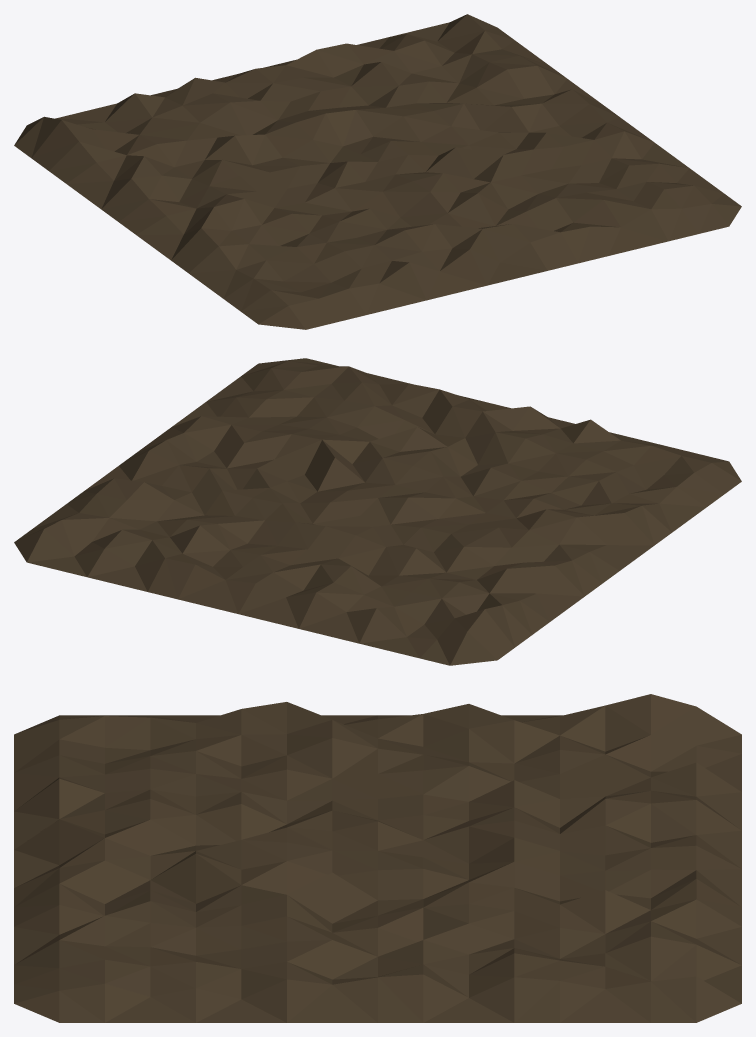
File: plot.dae
The picture shows the model from 3 angles, top to bottom: view 1: azimuth 30°, elevation 25°; view 2: azimuth 150°, elevation 25°; view 3: azimuth 270°, elevation 25°; orthographic projection. The views are drawn at different scales.
Parts seen in each view (by area): view 1: Plane; view 2: Plane; view 3: Plane.
Boxes of the visible parts, x1,y1,x2,y2 form: Plane: [14, 14, 741, 329]; Plane: [14, 358, 741, 665]; Plane: [14, 694, 741, 1022].
Size of the model in its own units: 5 by 5 by 0.3073.
